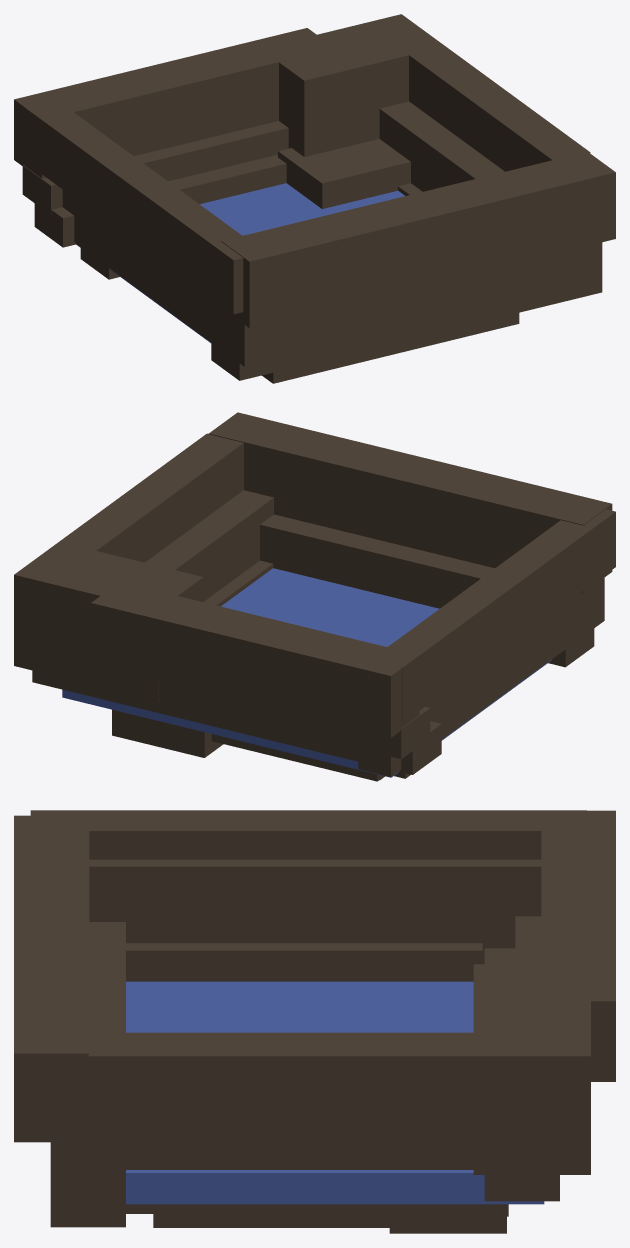
The model's file is water - shallow.fbx.
The picture shows the model from 3 angles, top to bottom: view 1: azimuth 30°, elevation 25°; view 2: azimuth 150°, elevation 25°; view 3: azimuth 270°, elevation 25°; orthographic projection. The views are drawn at different scales.
Visible parts, largest first — view 1: polySurface25, pCube27; view 2: polySurface25, pCube27; view 3: polySurface25, pCube27.
Boxes of the visible parts, left/top/right/bottom form: polySurface25: left=14, top=14, right=615, bottom=383; pCube27: left=76, top=183, right=404, bottom=342; polySurface25: left=14, top=412, right=615, bottom=781; pCube27: left=62, top=568, right=551, bottom=777; polySurface25: left=14, top=810, right=615, bottom=1233; pCube27: left=126, top=981, right=544, bottom=1204.
Bounding box in the file's own units: 4.05 × 1.82 × 4.19.
